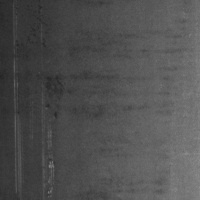scratches: (11, 65, 26, 197), (39, 123, 57, 197)
